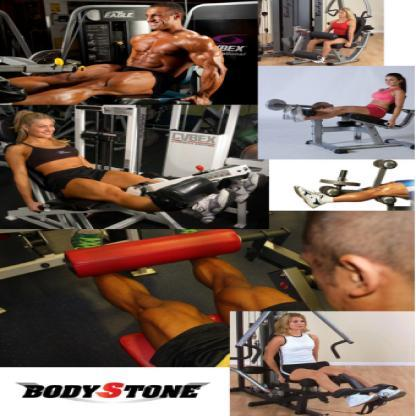leg extension: (5, 100, 261, 220), (4, 0, 260, 103), (267, 67, 416, 155), (270, 0, 402, 68)
